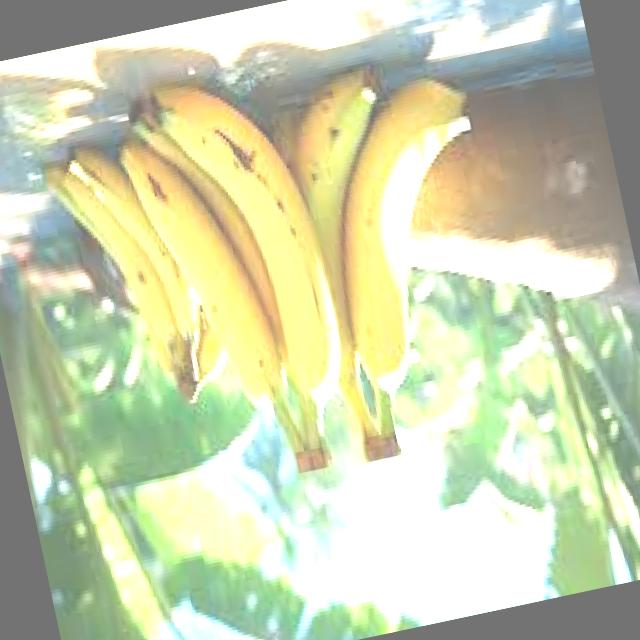Banana: (268, 40, 538, 468), (106, 63, 366, 498), (39, 132, 235, 430)
